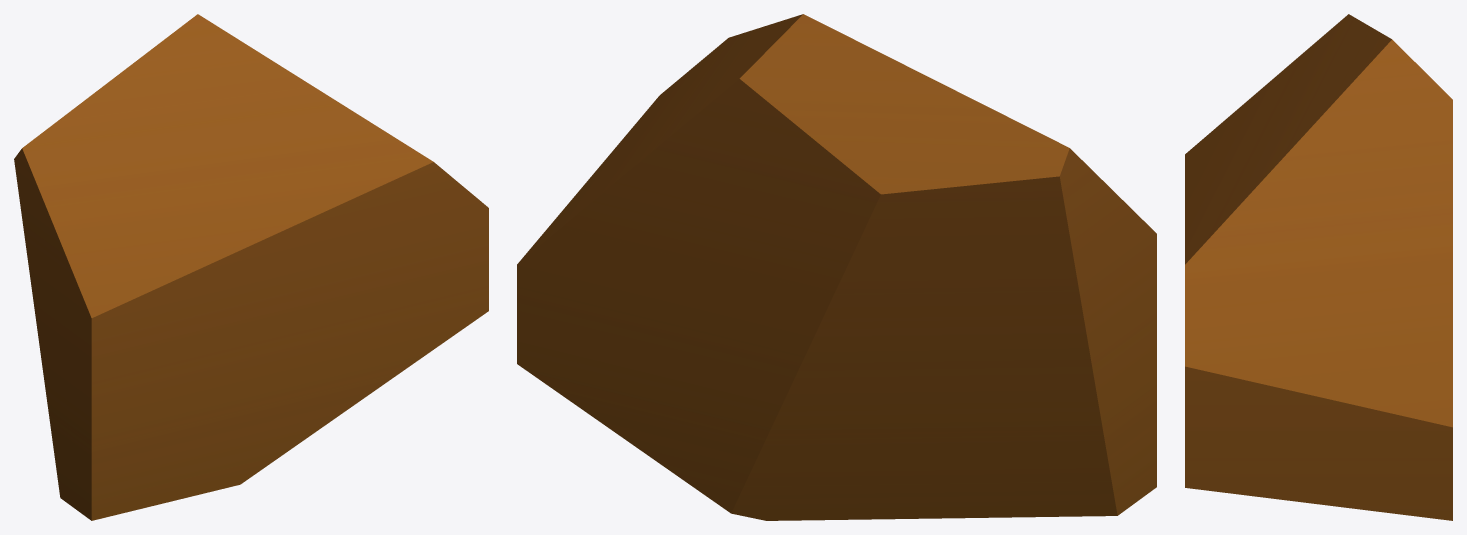
File: Rock_3.fbx
3 views of the same model, side by side, from view 1: azimuth 30°, elevation 25°; view 2: azimuth 150°, elevation 25°; view 3: azimuth 270°, elevation 25° (orthographic). The views are drawn at different scales.
Visible parts, largest first — view 1: Rock_3; view 2: Rock_3; view 3: Rock_3.
Part boxes in pixels (x1,y1,x2,y2): Rock_3: [14, 14, 488, 520]; Rock_3: [517, 14, 1156, 520]; Rock_3: [1185, 14, 1452, 520].
Size of the model in its own units: 101 by 95.7 by 49.99.
